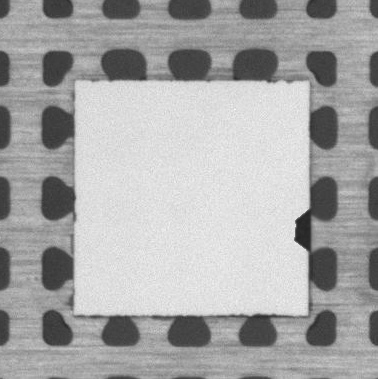DIE_BROKEN: (293, 206, 313, 251)
